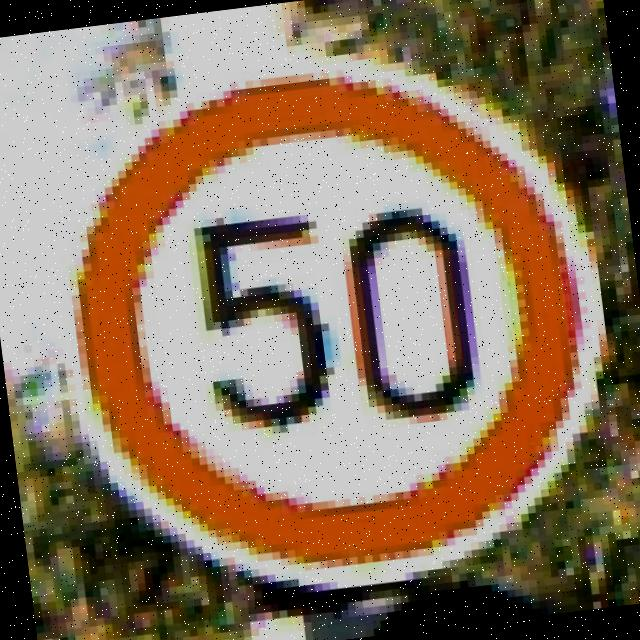Ograniczenie predkosci do 50: (34, 36, 618, 608)
